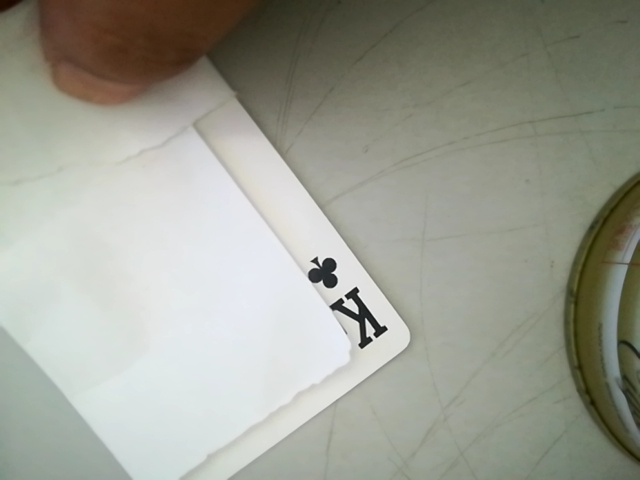mh k: (300, 247, 391, 354)
